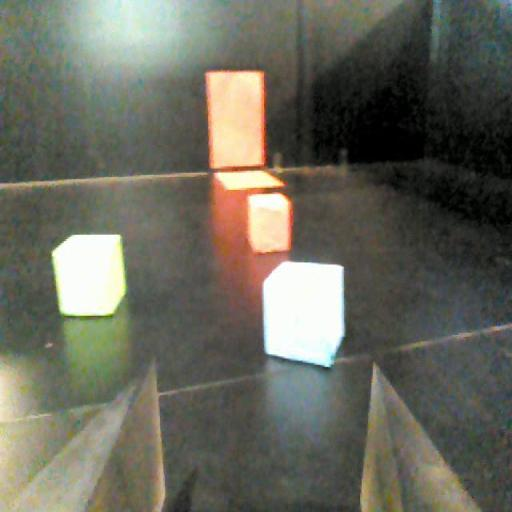cube: (260, 257, 349, 370), (51, 230, 128, 320), (244, 188, 296, 257)
